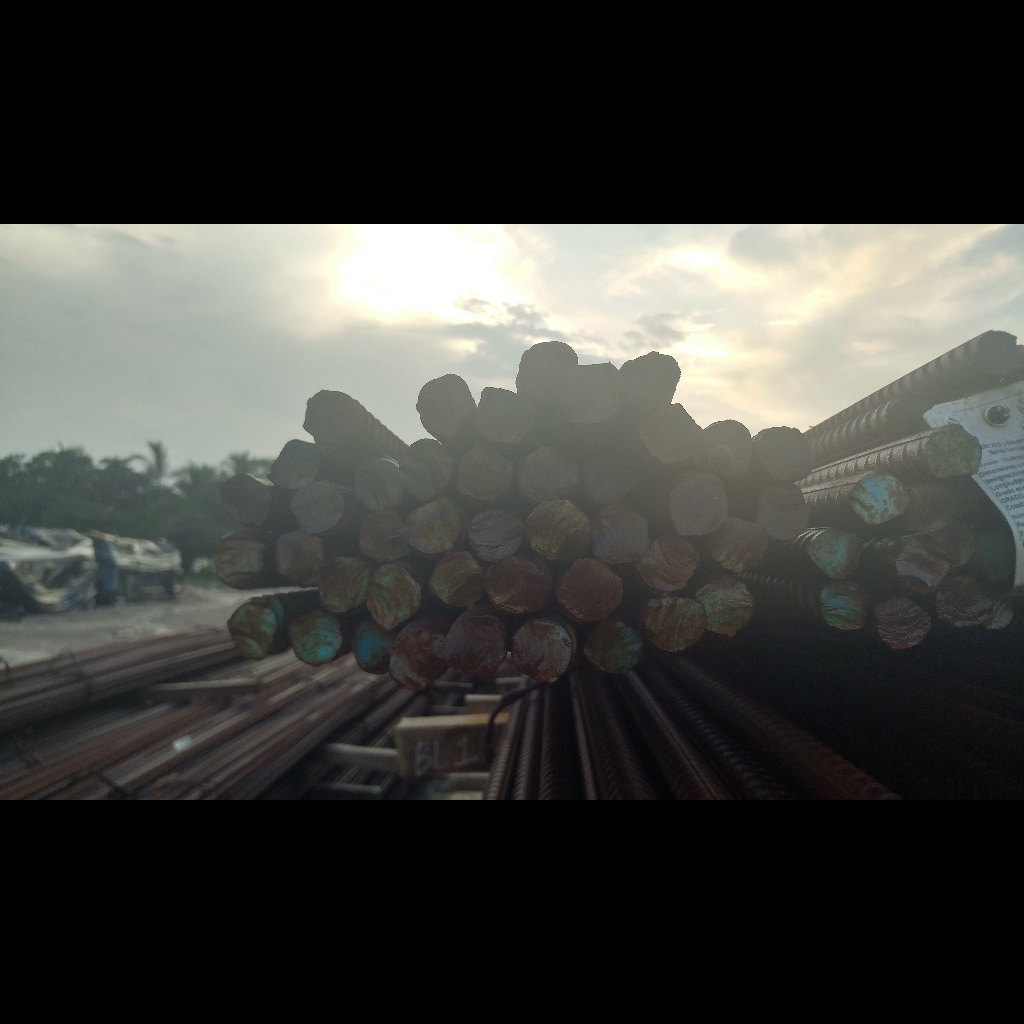dipstick: (556, 361, 623, 430), (485, 553, 553, 615), (446, 609, 507, 678), (557, 556, 624, 618), (526, 501, 593, 560), (635, 533, 700, 592), (694, 574, 754, 636), (415, 373, 473, 437), (367, 563, 422, 630), (475, 385, 536, 444), (514, 621, 571, 684), (667, 477, 726, 537), (390, 624, 445, 688), (708, 517, 768, 575), (591, 506, 651, 564), (516, 343, 577, 400), (584, 445, 640, 507), (582, 615, 641, 672), (895, 537, 953, 594), (454, 445, 512, 502), (430, 549, 486, 608), (935, 573, 995, 628), (694, 420, 751, 477), (621, 352, 680, 407), (518, 446, 577, 501), (399, 503, 462, 554), (645, 599, 705, 651), (876, 594, 931, 650), (400, 440, 451, 500), (316, 554, 367, 613), (641, 401, 691, 461), (760, 426, 815, 480), (467, 504, 521, 559), (927, 425, 983, 477), (758, 482, 809, 539), (357, 510, 412, 562), (850, 473, 907, 523), (289, 612, 343, 664), (302, 392, 357, 443), (228, 603, 277, 660), (275, 530, 325, 585), (818, 579, 870, 630), (213, 534, 265, 585), (808, 528, 861, 578), (289, 482, 344, 530), (269, 440, 323, 487), (223, 473, 270, 525), (351, 462, 403, 508), (905, 483, 957, 528), (973, 530, 1015, 584), (973, 330, 1021, 377), (354, 622, 395, 674), (934, 519, 975, 563), (885, 392, 923, 433), (984, 588, 1012, 631)
